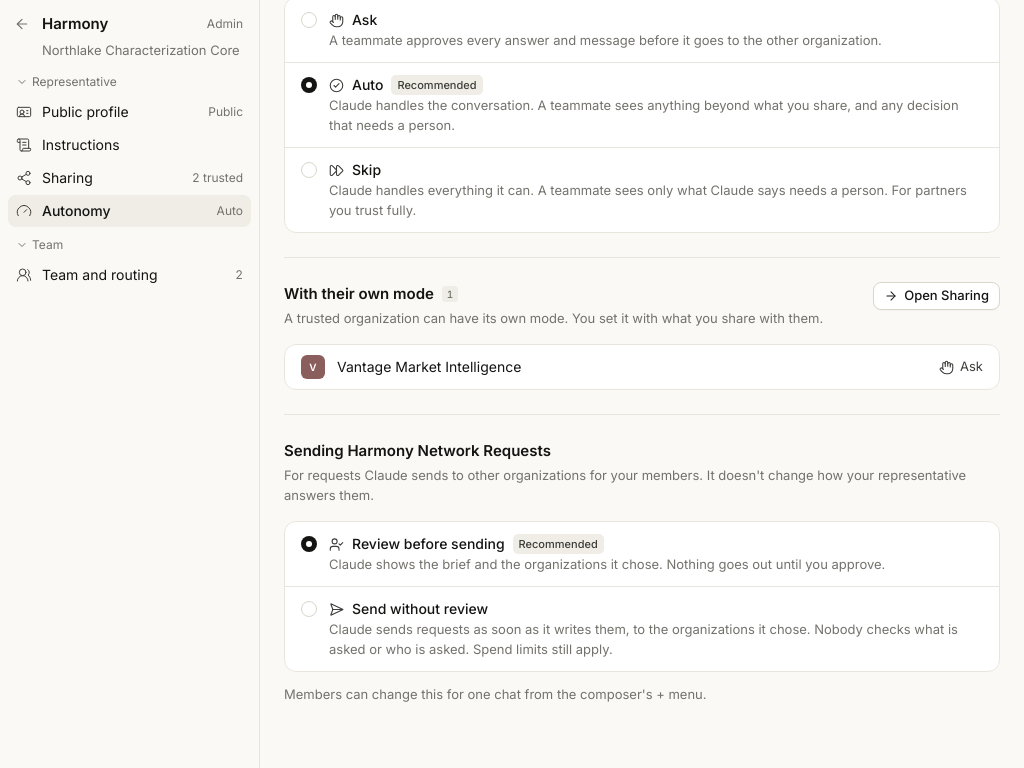
Test: sending Harmony Network Requests › saves the organization's default, warning while it sends without review
The width and height of the screenshot is (1024, 768).
(page scrolled)
expect the radio button labelled "Review before sending" is checked: met, box [285,522,999,587]
expect the text "Requests go out before anyone reads them." is not shown: met
Click the radio button labelled "Send without review": x=642, y=629 [285,587,999,671]
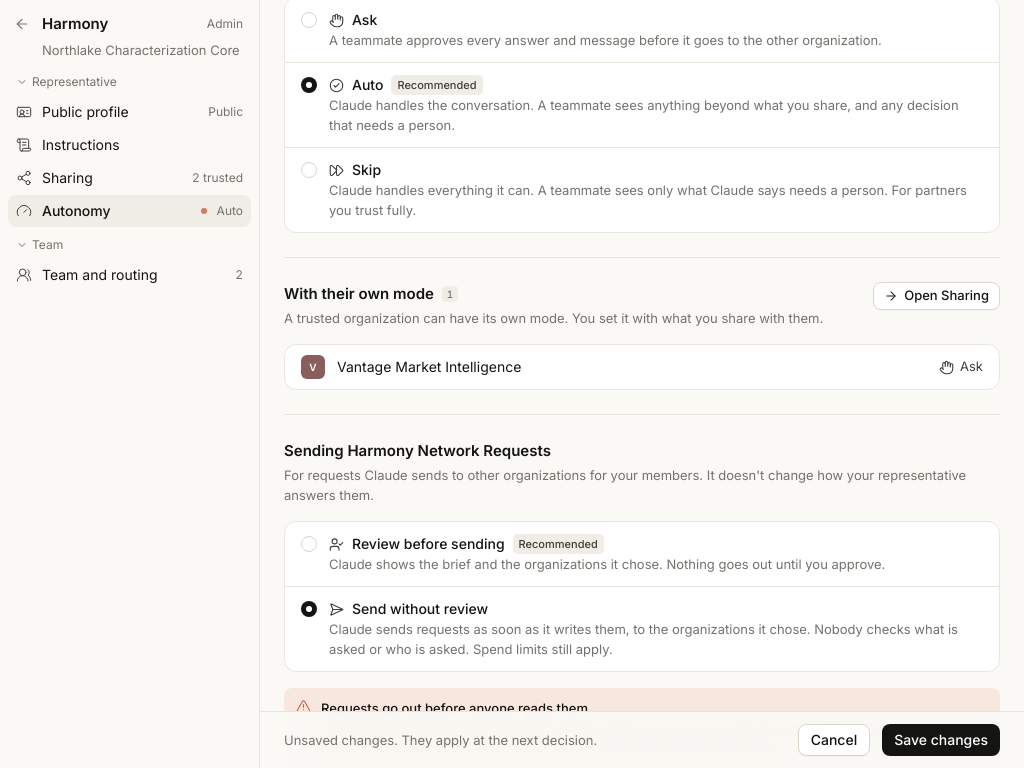
expect the message shows "Requests go out before anyone reads them.": met, box [321,700,592,716]
Click the button "Save changes": x=941, y=740 [882,724,1000,756]
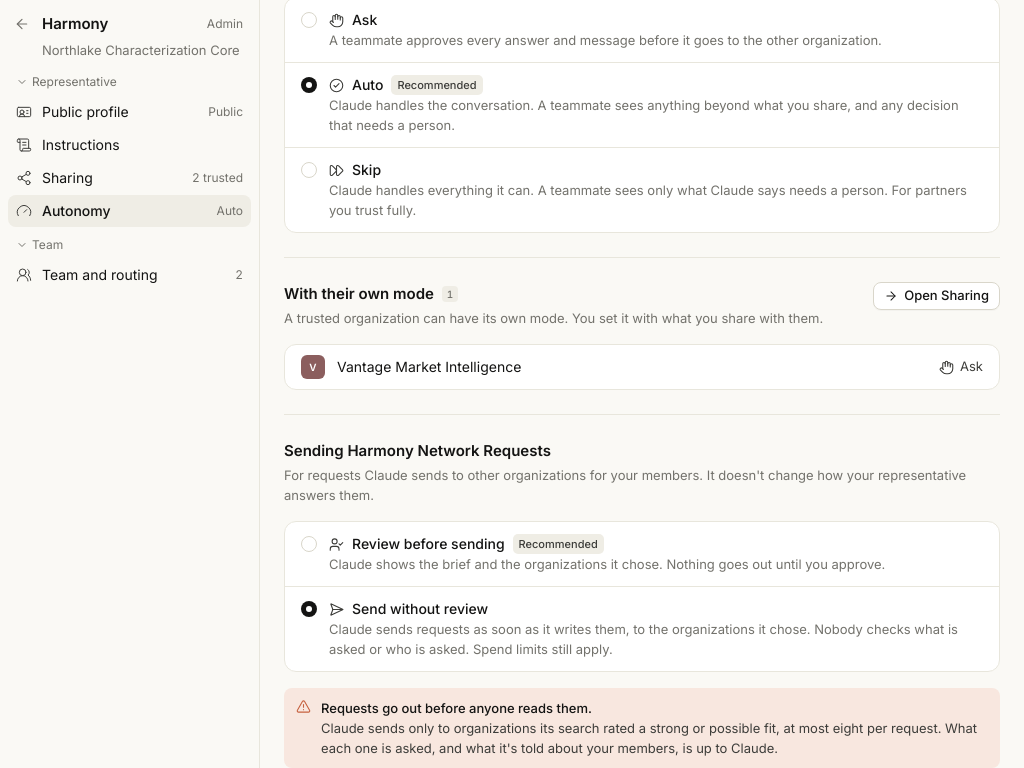
expect the radio button labelled "Send without review" is checked: met, box [285,587,999,671]
expect the message shows "Requests go out before anyone reads them.": met, box [321,700,592,716]
expect the button "Save changes" is gone: met
